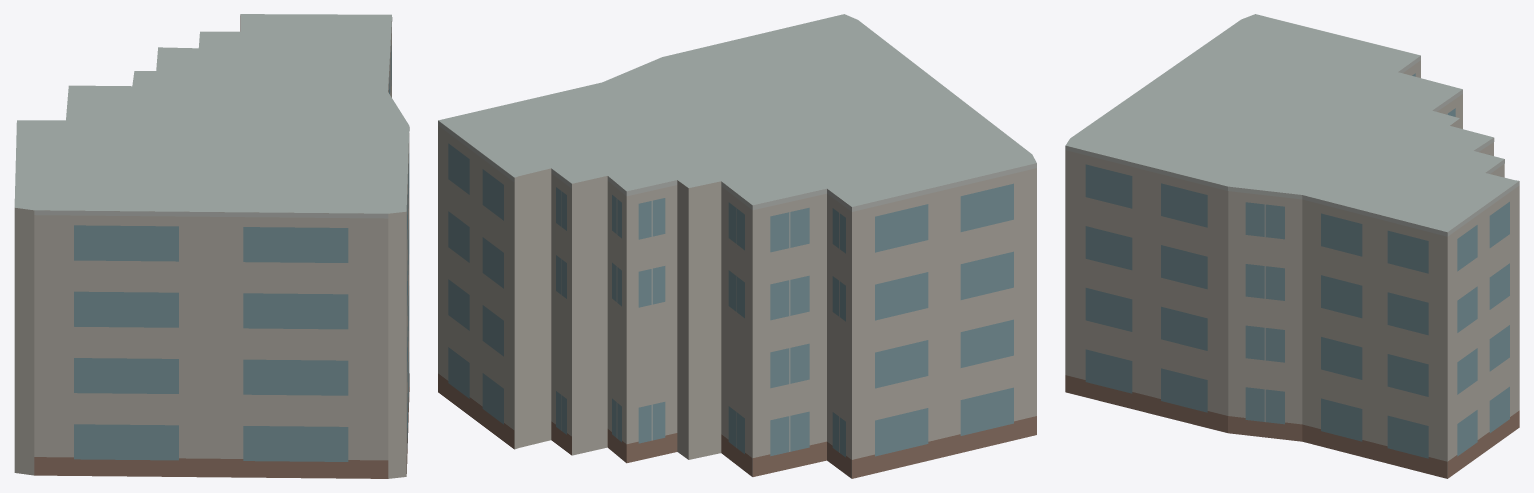
The model's file is survey-upis-32615880.glb.
3 renders of one model, left to right at view 1: azimuth 30°, elevation 25°; view 2: azimuth 150°, elevation 25°; view 3: azimuth 270°, elevation 25°, orthographic. The views are drawn at different scales.
Parts seen in each view (by area): view 1: survey-upis-32615880.tmp; view 2: survey-upis-32615880.tmp; view 3: survey-upis-32615880.tmp.
Part boxes in pixels (x1=…): survey-upis-32615880.tmp: x1=14, y1=14, x2=409, y2=478; survey-upis-32615880.tmp: x1=438, y1=14, x2=1036, y2=478; survey-upis-32615880.tmp: x1=1065, y1=14, x2=1519, y2=478.
Bounding box in the file's own units: 25.44 × 13.4 × 22.36.
